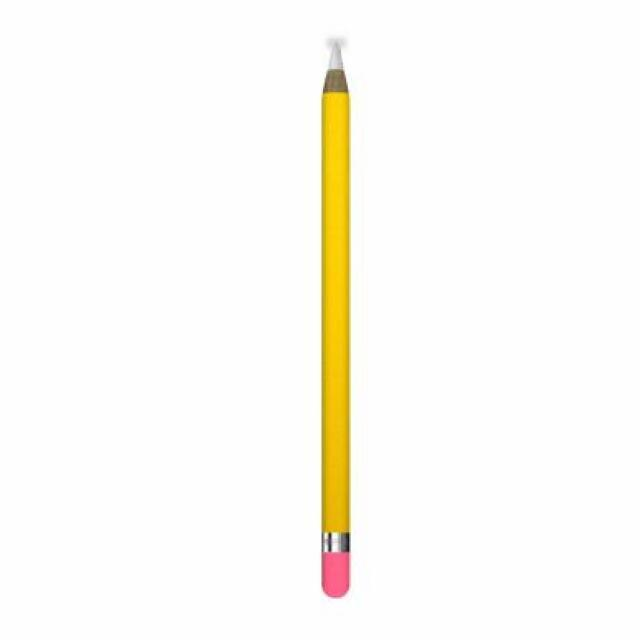Pencil: (298, 32, 370, 116)
